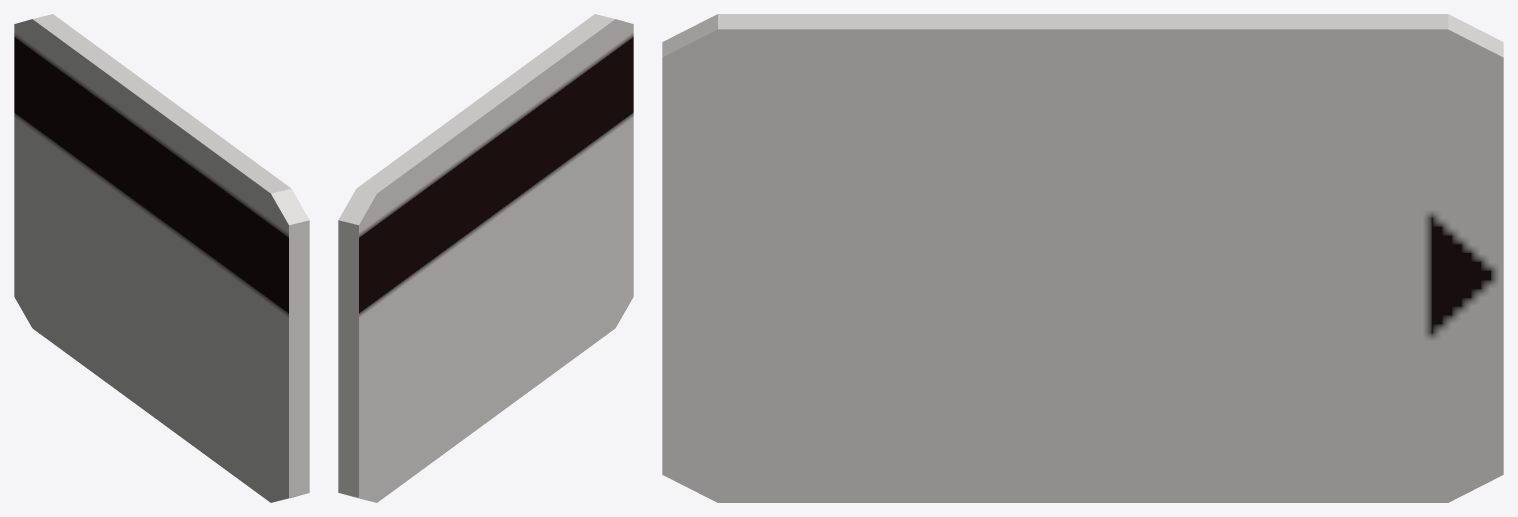
Rendered from Cartão.obj.
3 views of the same model, side by side, from view 1: azimuth 30°, elevation 25°; view 2: azimuth 150°, elevation 25°; view 3: azimuth 270°, elevation 25° (orthographic). The views are drawn at different scales.
Parts seen in each view (by area): view 1: Cartao; view 2: Cartao; view 3: Cartao.
Boxes of the visible parts, x1,y1,x2,y2 form: Cartao: (14, 14, 309, 502); Cartao: (338, 14, 633, 502); Cartao: (662, 14, 1503, 502).
Bounding box in the file's own units: 0.14 × 2 × 3.22.
